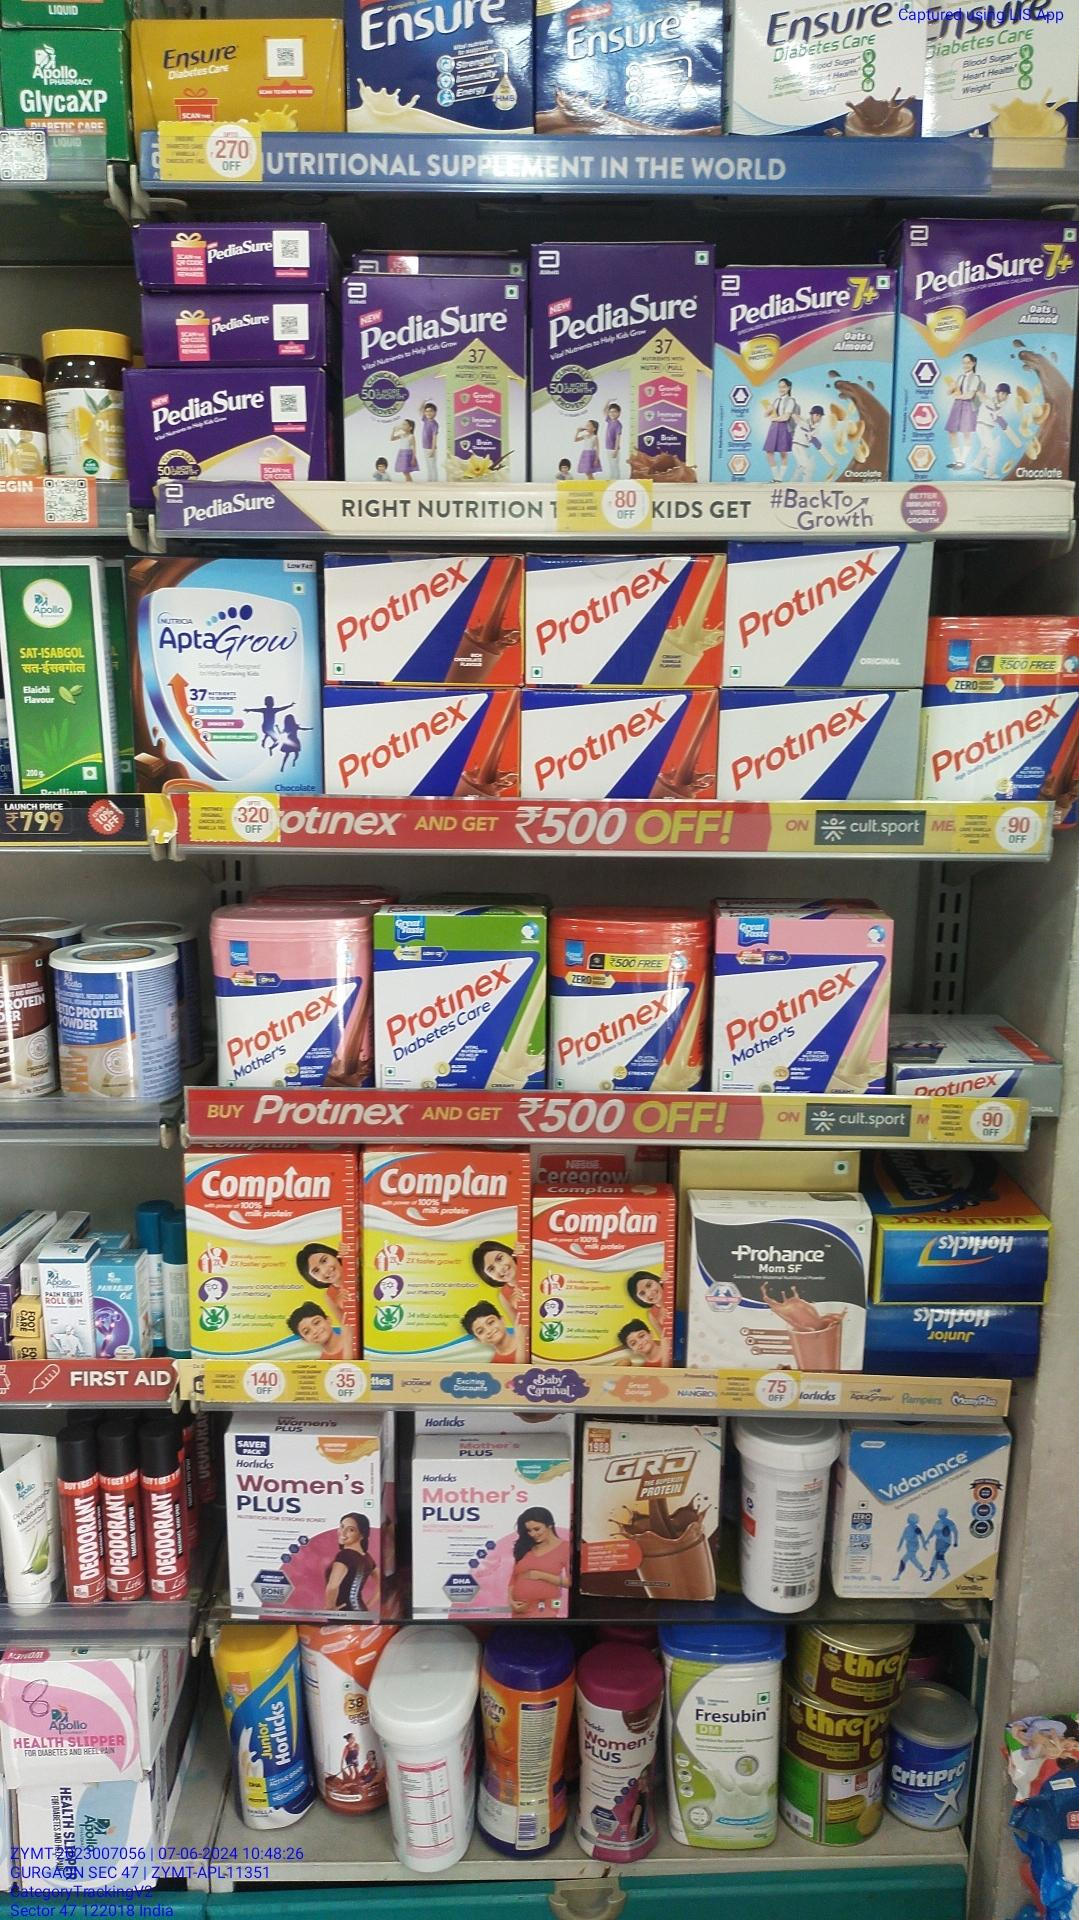HORLICKS_JUNIOR_VANILLA_500_GM_JAR: (219, 1623, 315, 1845)
PEDIASURE_CHOCOLATE_500_G_PACK: (541, 243, 711, 489)
PEDIASURE_VANILLA_500_G_PACK: (338, 273, 528, 488)
PROTINEX_VANILLA_400_G_JAR: (558, 923, 711, 1091)
